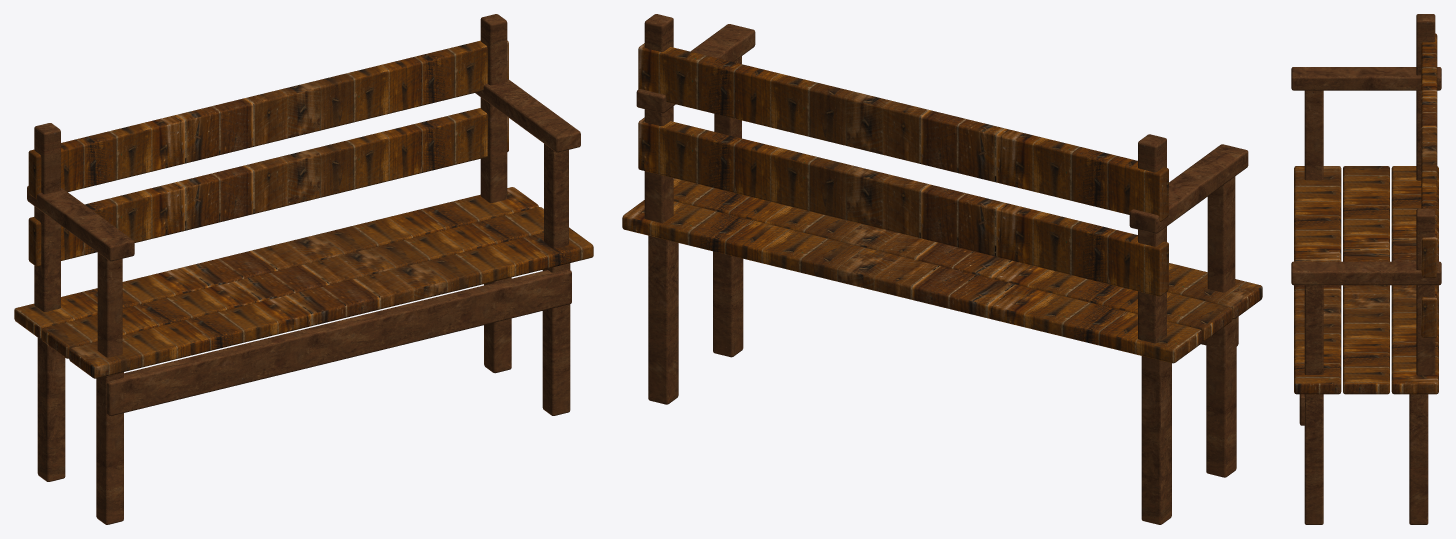
Rendered from wall_bench.glb.
The picture shows the model from 3 angles, left to right: view 1: azimuth 30°, elevation 25°; view 2: azimuth 150°, elevation 25°; view 3: azimuth 270°, elevation 25°; orthographic projection. The views are drawn at different scales.
Parts seen in each view (by area): view 1: WalnutBoardsSurface, WalnutSurface; view 2: WalnutBoardsSurface, WalnutSurface; view 3: WalnutBoardsSurface, WalnutSurface.
Boxes of the visible parts, x1,y1,x2,y2 form: WalnutBoardsSurface: [14, 40, 593, 378]; WalnutSurface: [27, 14, 580, 524]; WalnutBoardsSurface: [622, 43, 1262, 363]; WalnutSurface: [636, 14, 1248, 524]; WalnutBoardsSurface: [1294, 33, 1438, 394]; WalnutSurface: [1291, 14, 1441, 524].
Size of the model in its own units: 1.48 by 0.98 by 0.43.
2 materials, 2 textured.
